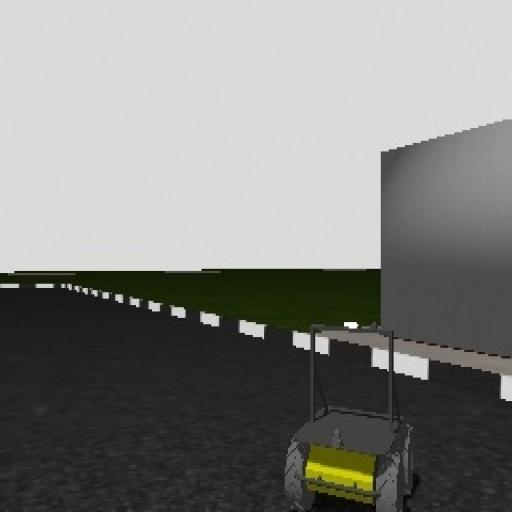huskya200: (276, 315, 419, 512)
